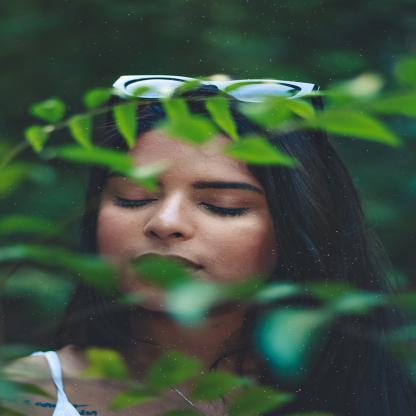Eye: (199, 189, 265, 221), (104, 182, 160, 215)
Mouth: (123, 248, 212, 286)
Nose: (146, 200, 203, 242)
